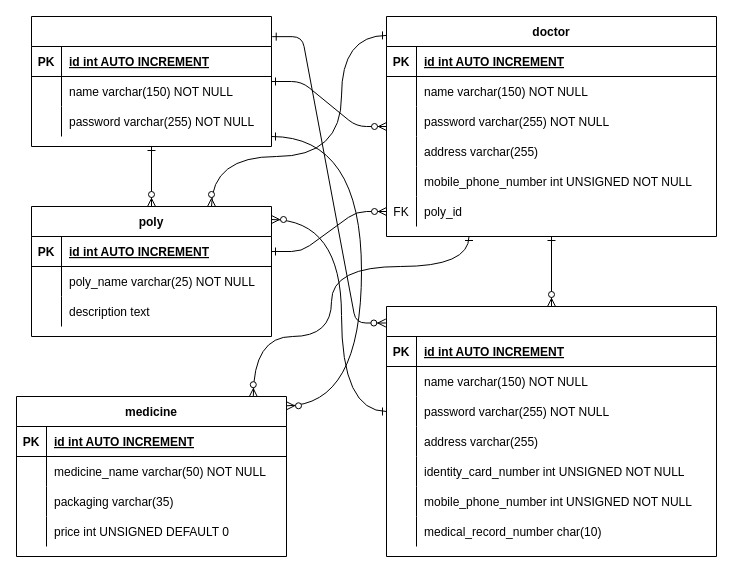
Some shapes in this 733 by 573 pixel diagram are drawn without their labels. Each missing label, with the box of its shape:
admin: (30, 16, 272, 146)
patient: (386, 306, 716, 556)
